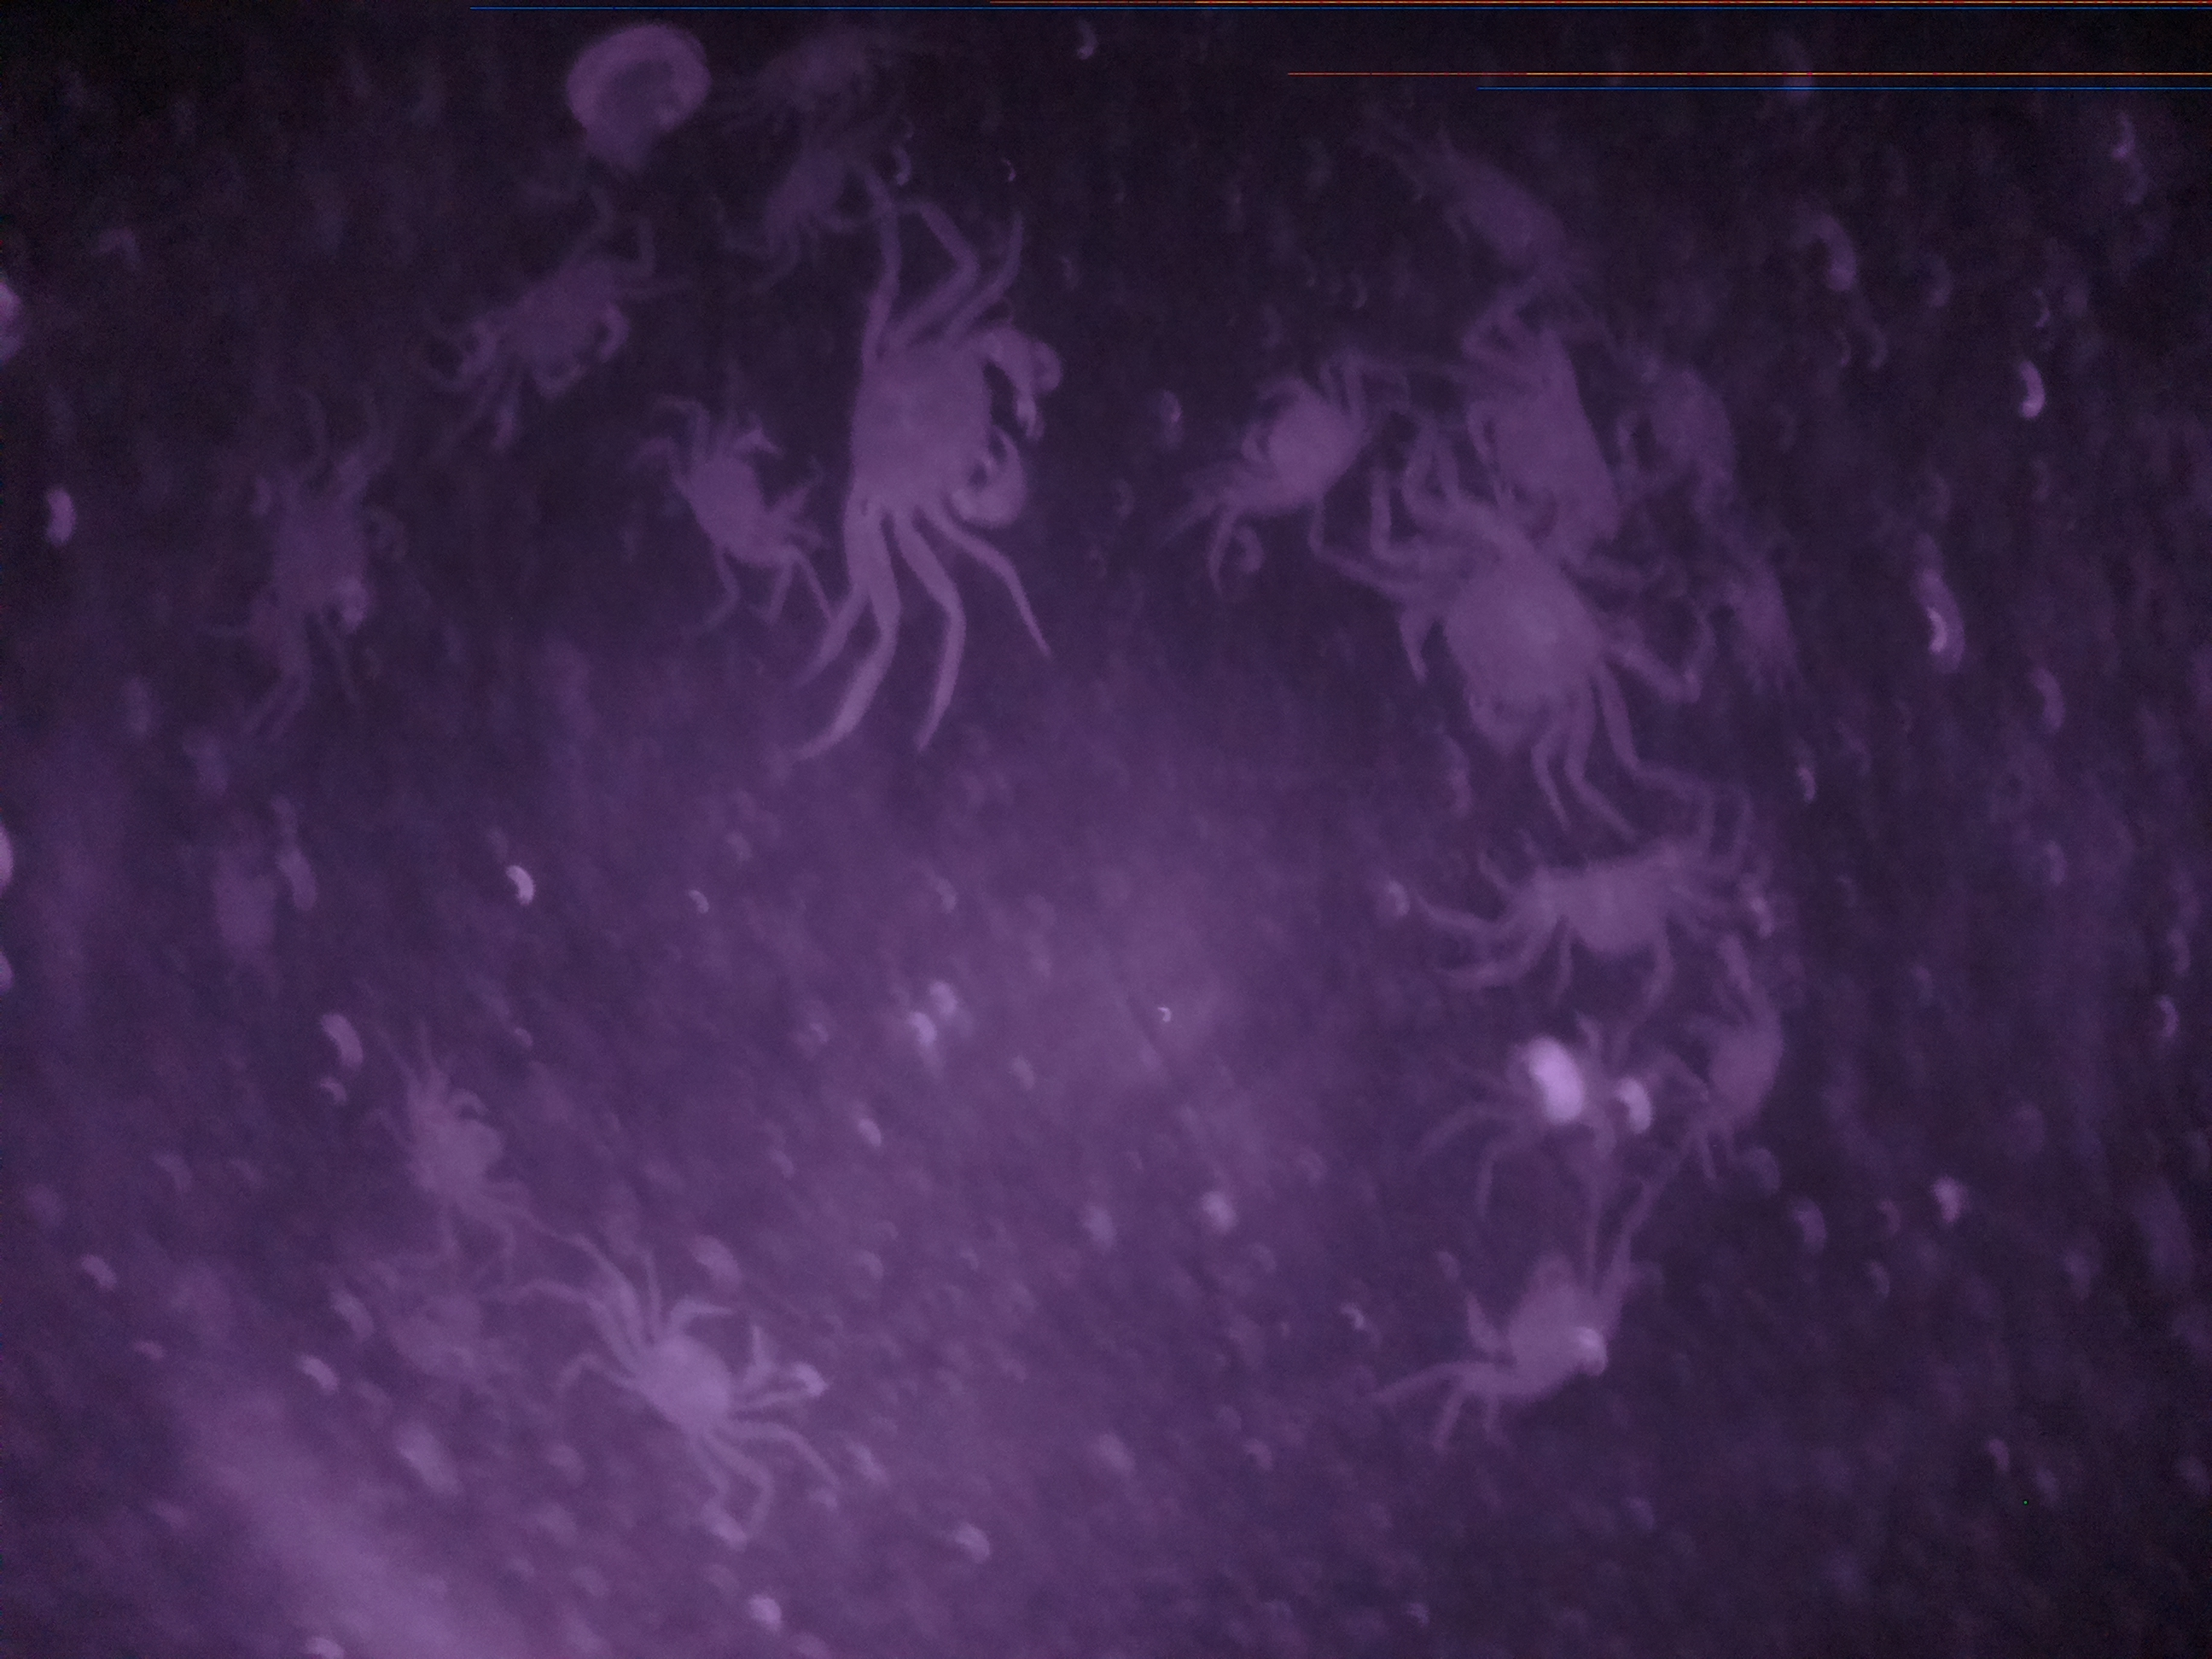Crab: (615, 1258, 782, 1490)
